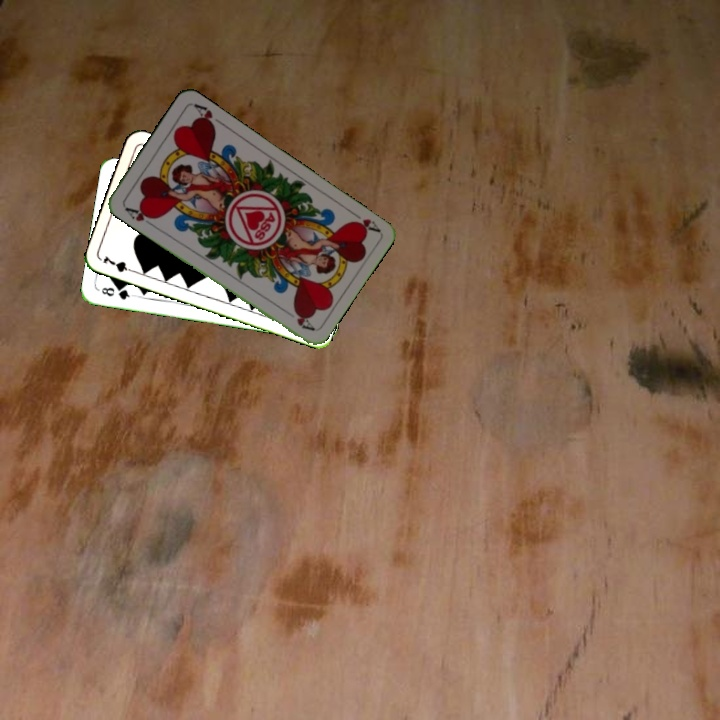G7: (99, 251, 138, 275)
G8: (97, 283, 136, 302)
HA: (345, 206, 382, 235), (120, 203, 159, 229)
